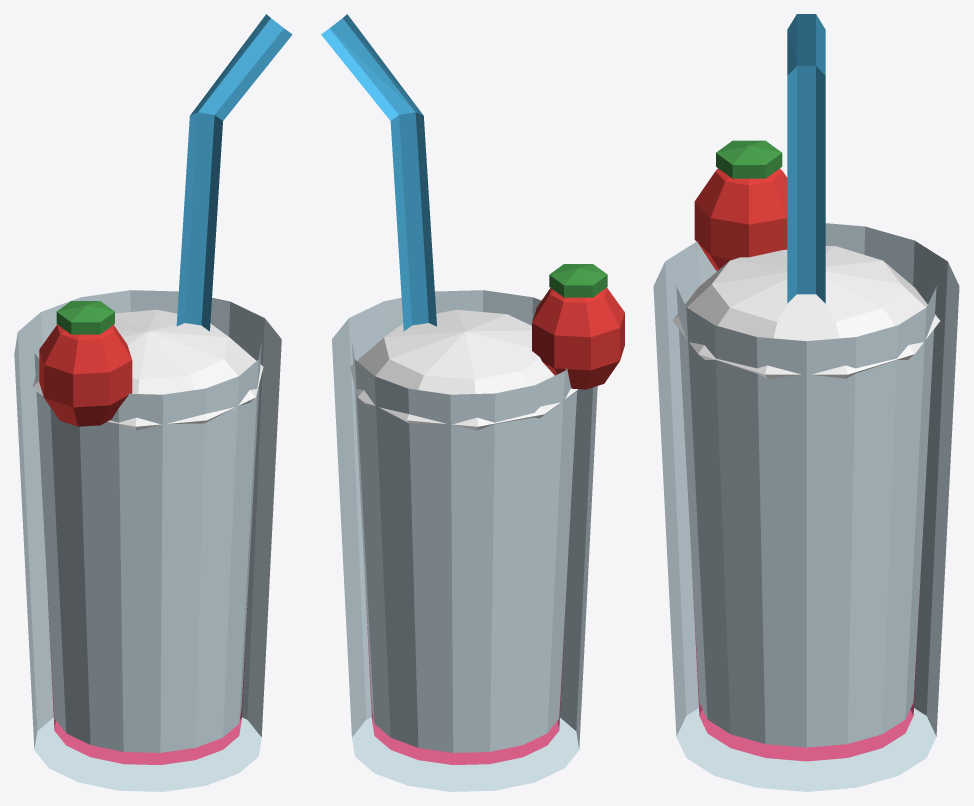
File: smoothie.glb
The picture shows the model from 3 angles, left to right: view 1: azimuth 30°, elevation 25°; view 2: azimuth 150°, elevation 25°; view 3: azimuth 270°, elevation 25°; orthographic projection. The views are drawn at different scales.
Visible parts, largest first — view 1: smoothie; view 2: smoothie; view 3: smoothie.
Boxes of the visible parts, <box> form: smoothie: <box>14,14,292,791</box>; smoothie: <box>321,14,624,791</box>; smoothie: <box>653,14,959,791</box>.
Size of the model in its own units: 0.1847 by 0.4561 by 0.16.
